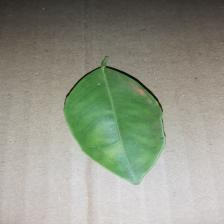greening: (70, 110, 165, 166)
